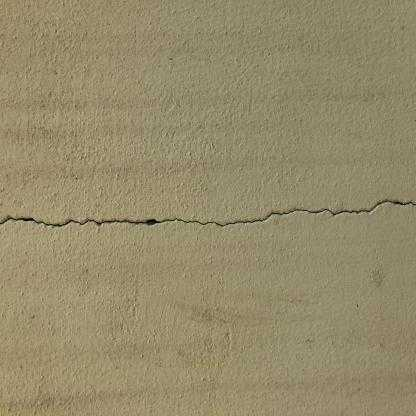crack: (0, 197, 415, 230)
